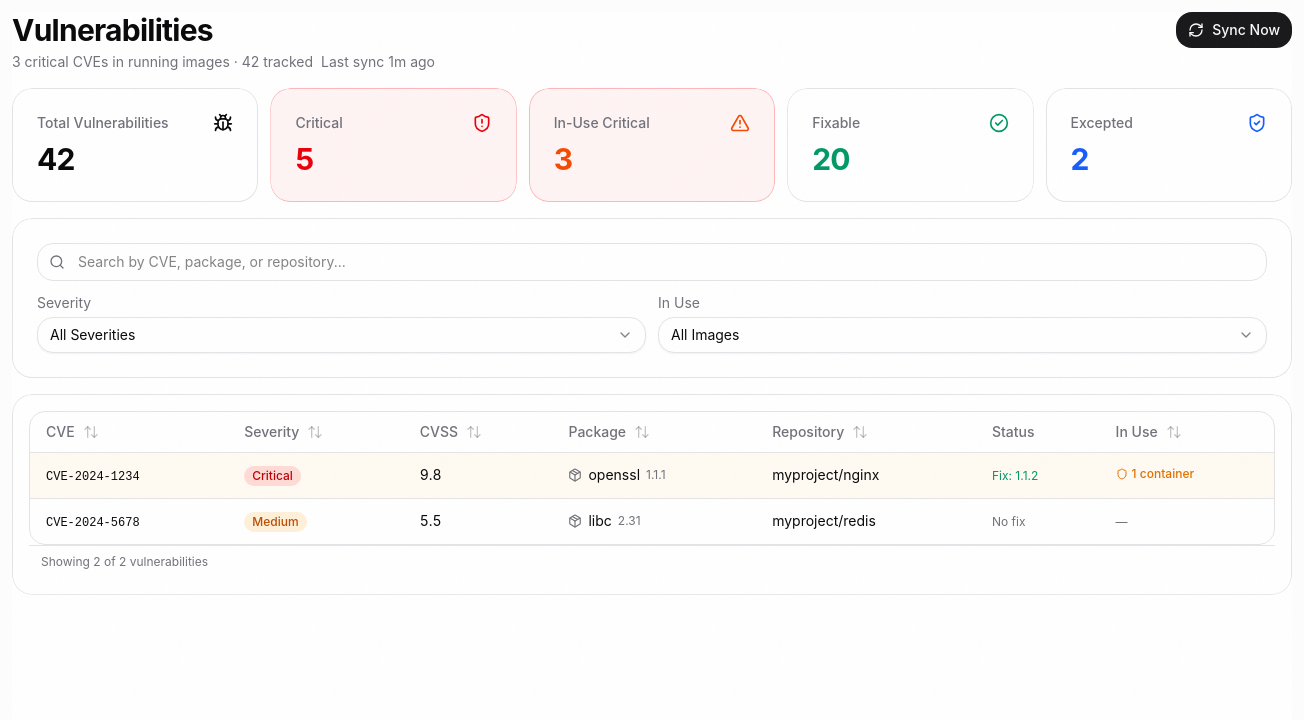
Test: HarborVulnerabilitiesPage › expands a vulnerability detail panel on row click
expect the text "Critical vulnerability in OpenSSL" is not shown: met
What coordinates should you click on to do the following:
click the text "CVE-2024-1234"
I would click on:
 (93, 477)
Its box is [46, 470, 140, 484].
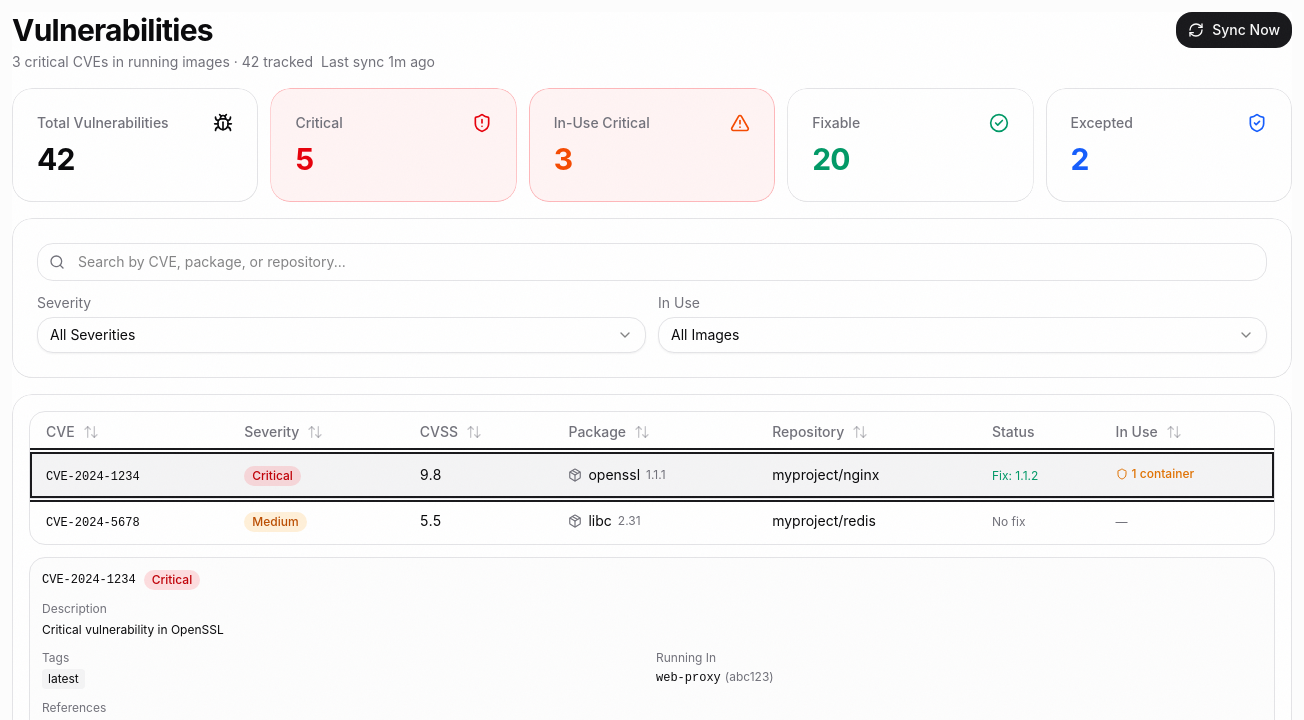
expect the text "Critical vulnerability in OpenSSL" is shown: met, box [42, 622, 224, 636]
